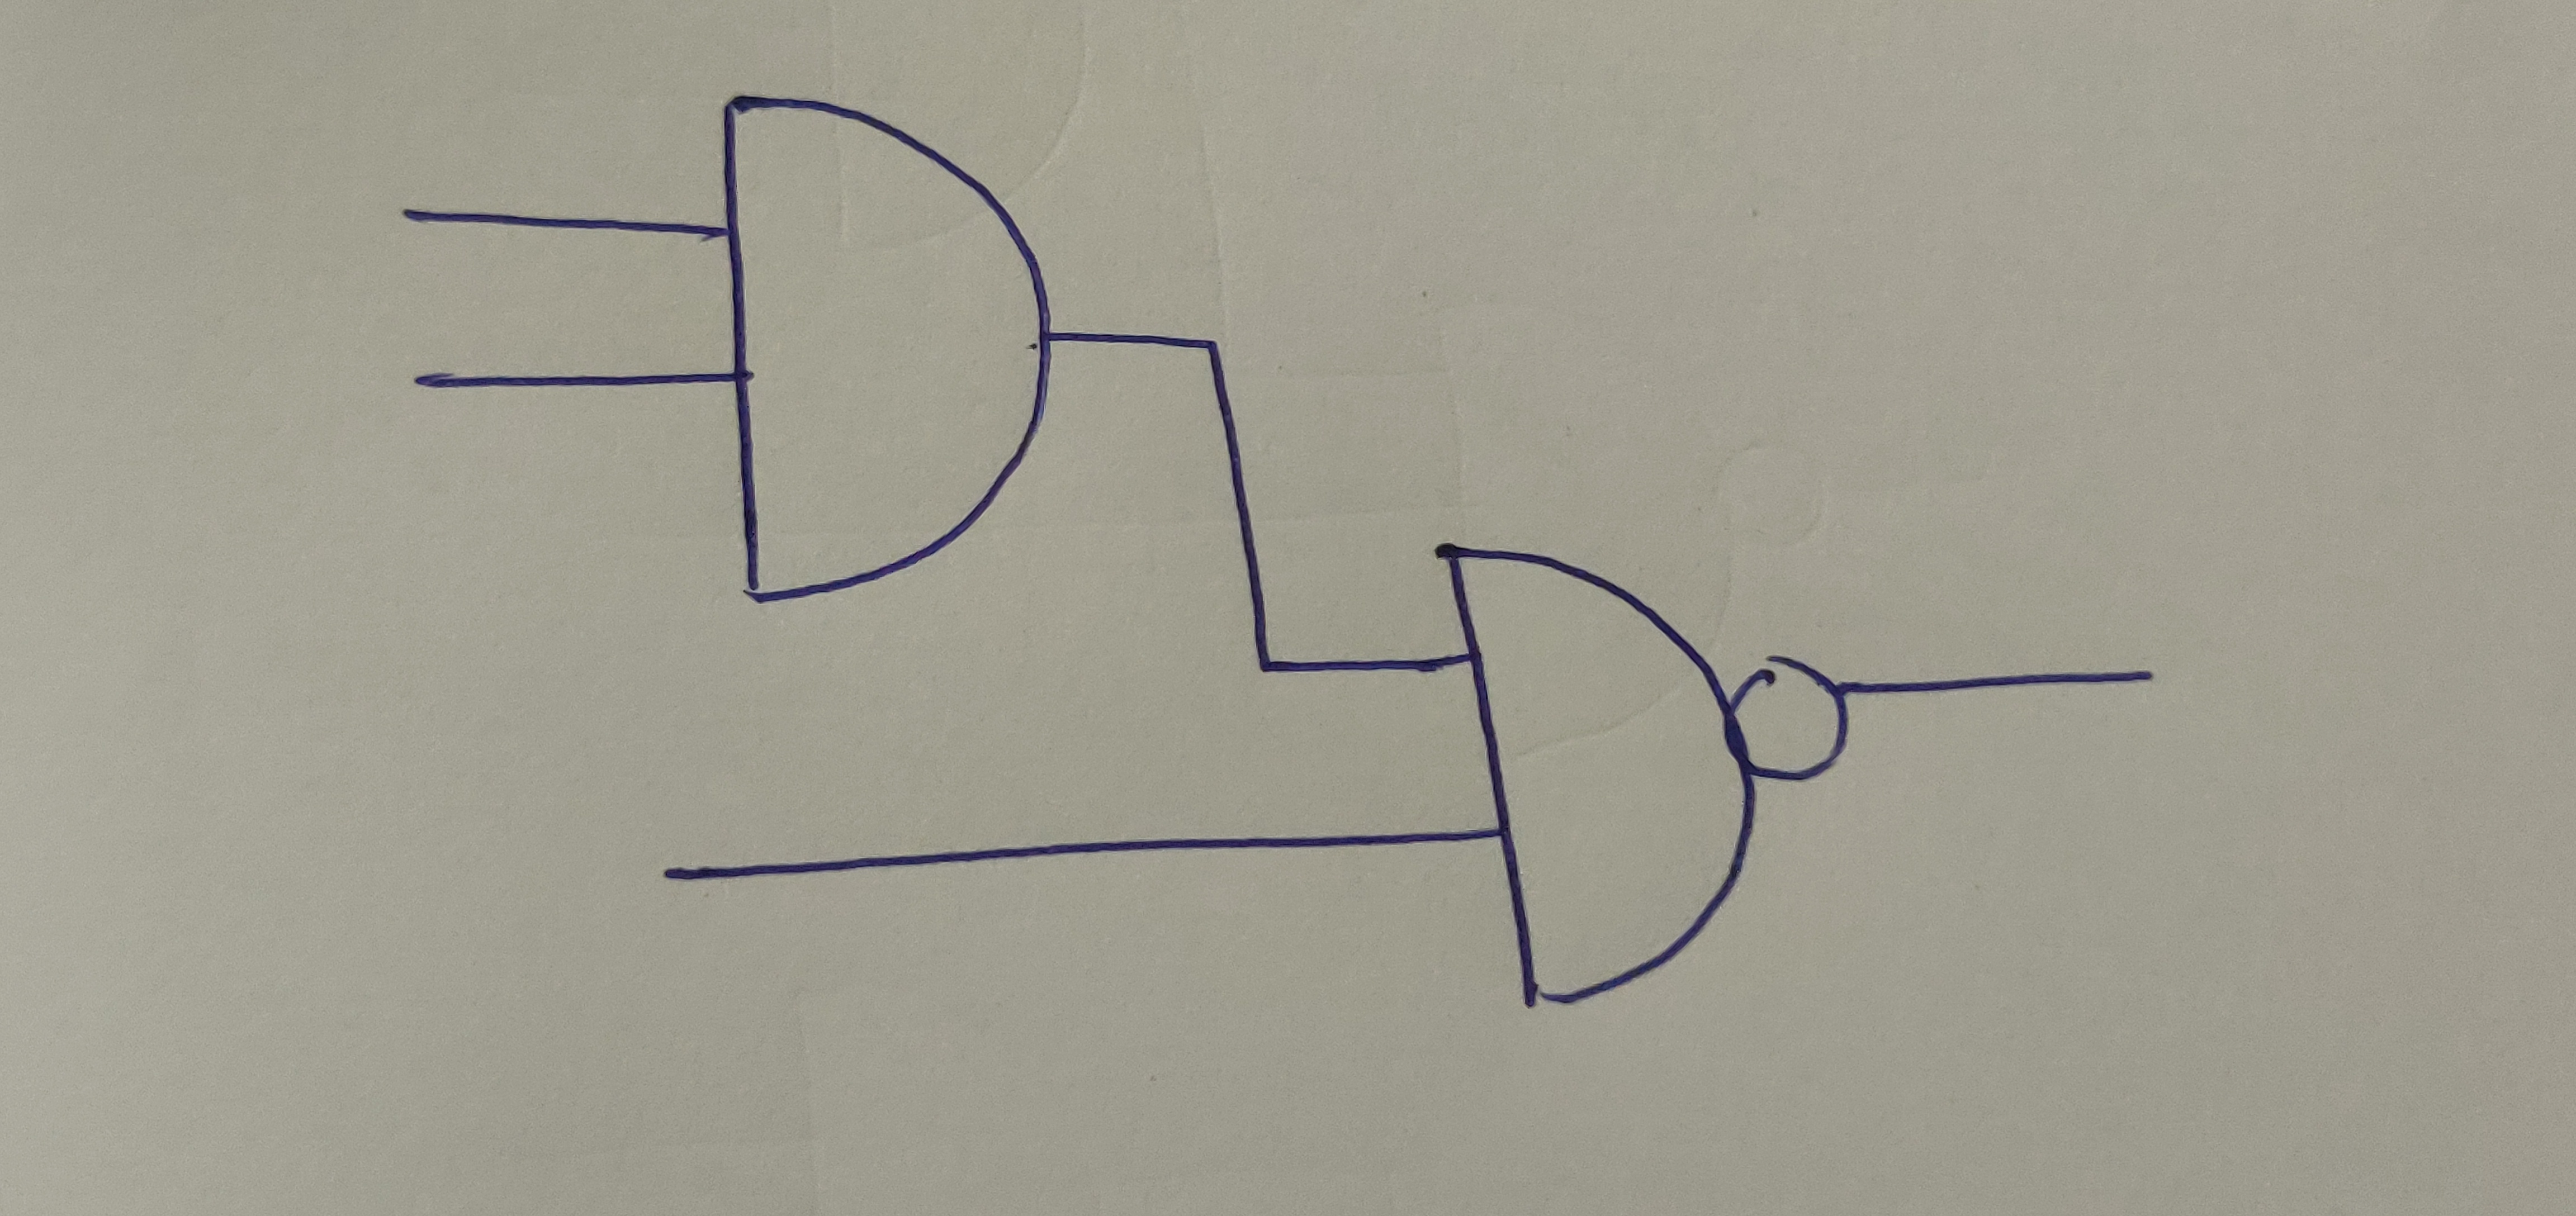and: (715, 85, 1060, 606), (1442, 541, 1753, 1011)
not: (1737, 651, 1855, 785)
